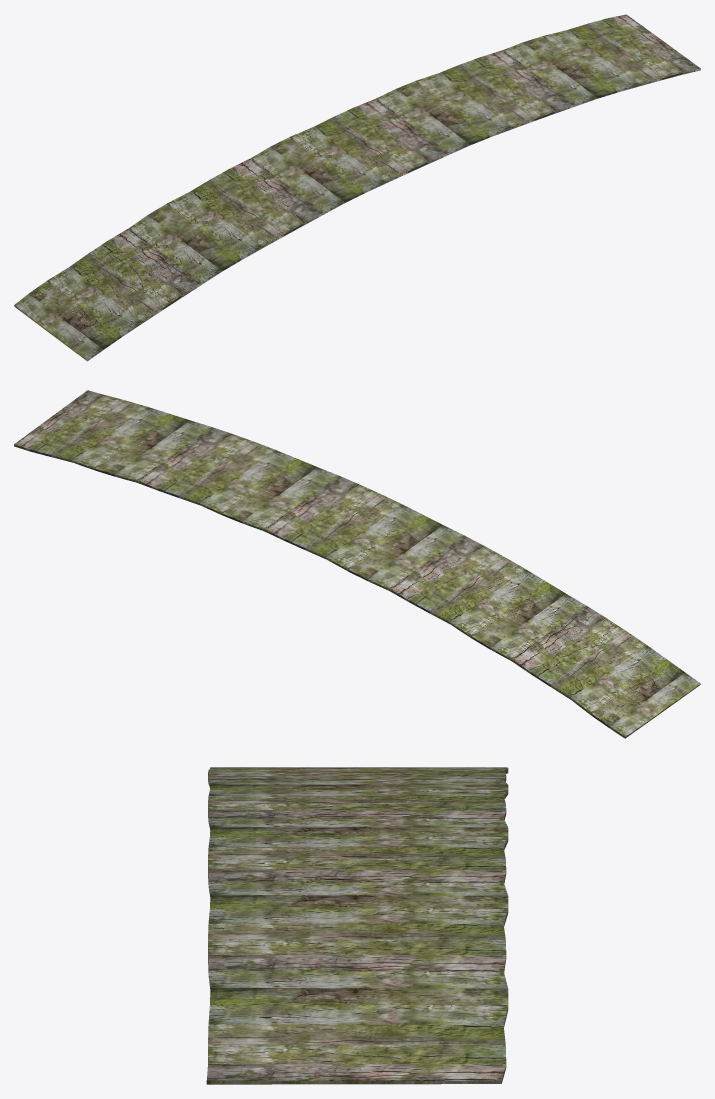
File: mid-down-curve_colider.fbx
3 renders of one model, top to bottom at view 1: azimuth 30°, elevation 25°; view 2: azimuth 150°, elevation 25°; view 3: azimuth 270°, elevation 25°, orthographic. The views are drawn at different scales.
Parts seen in each view (by area): view 1: ramp; view 2: ramp; view 3: ramp.
Boxes of the visible parts, box(x1,y1,x2,y2) form: ramp: box(14, 14, 700, 361); ramp: box(14, 390, 700, 738); ramp: box(206, 767, 508, 1084).
Size of the model in its own units: 958 by 216 by 204.
